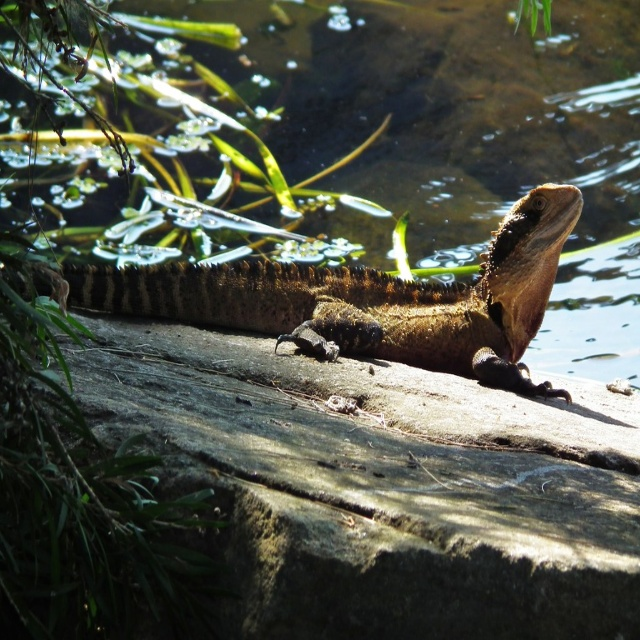Lizard: (38, 197, 580, 357)
